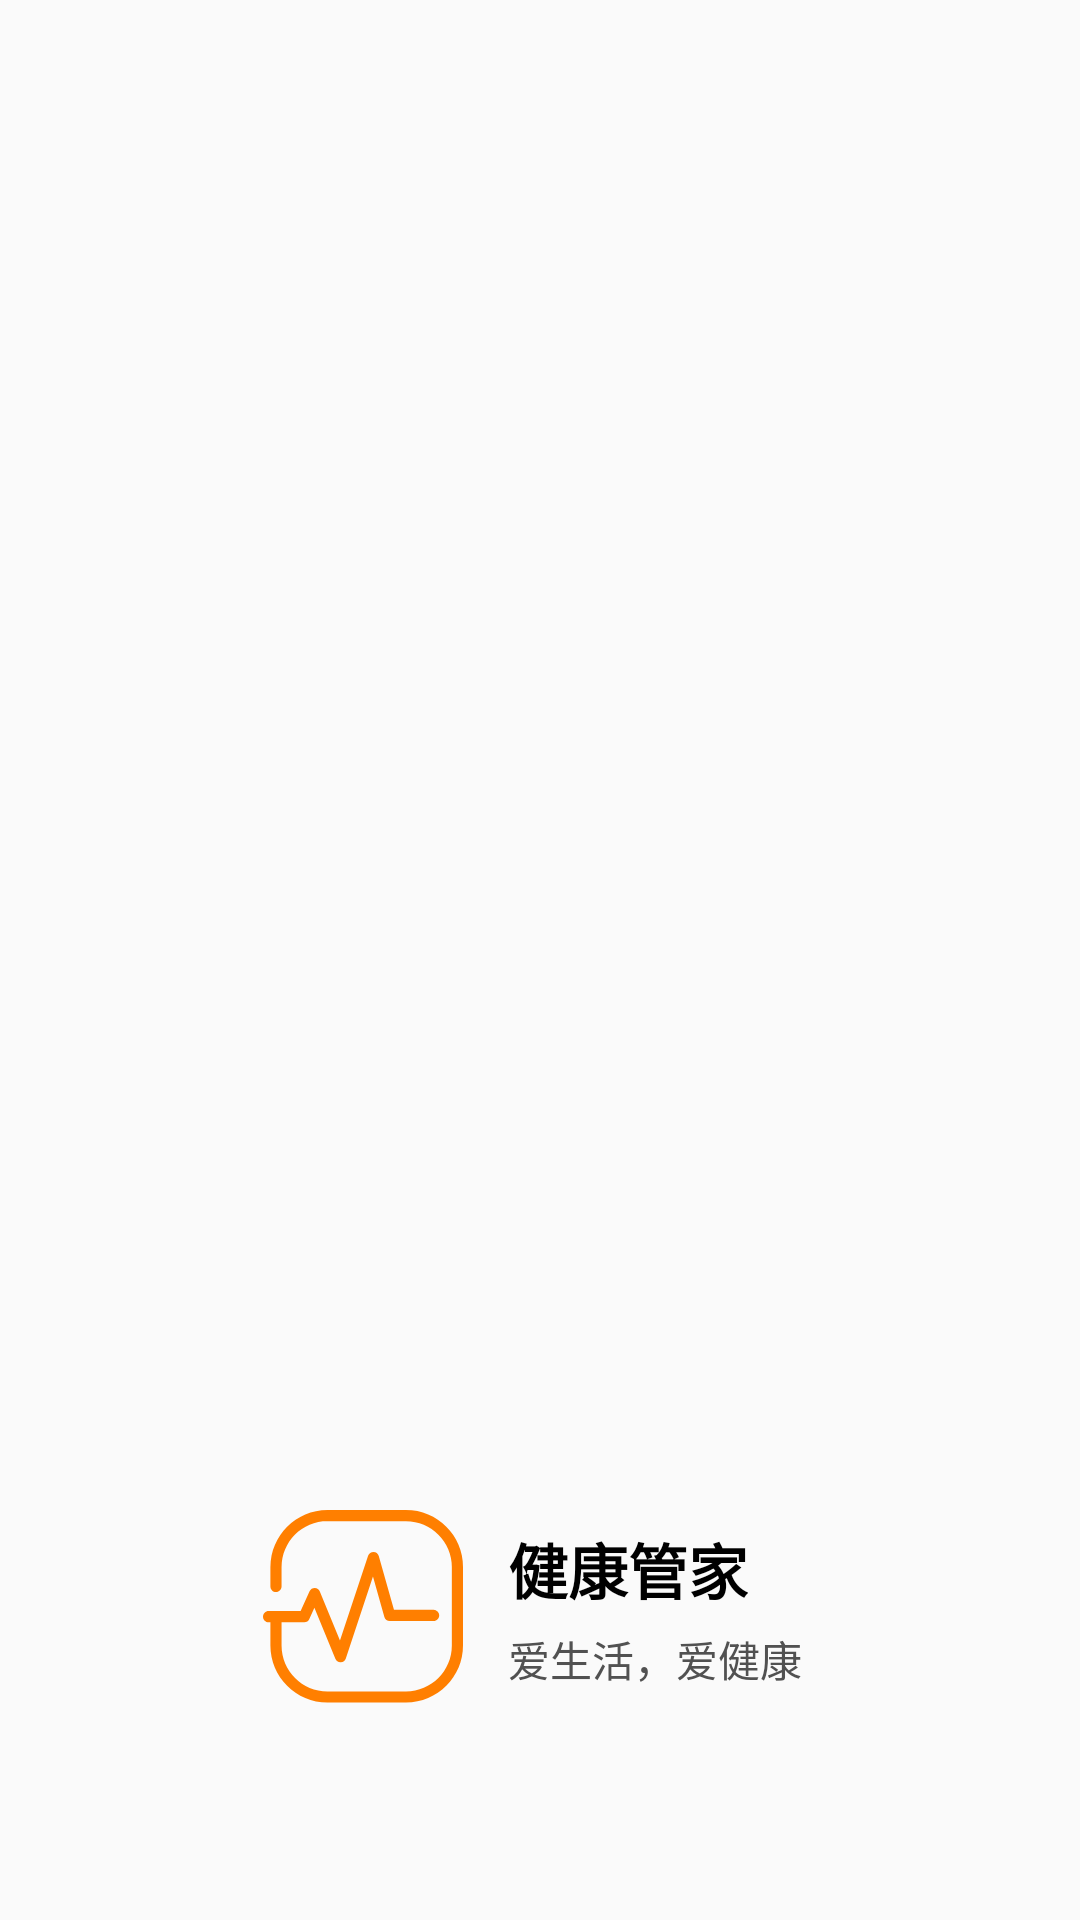

Screen size 1080w x 1920h. Icon name, then its box in pixels as (left=x1, top=y1, right=x2, bottom=y2):
health: (left=263, top=1510, right=463, bottom=1703)
